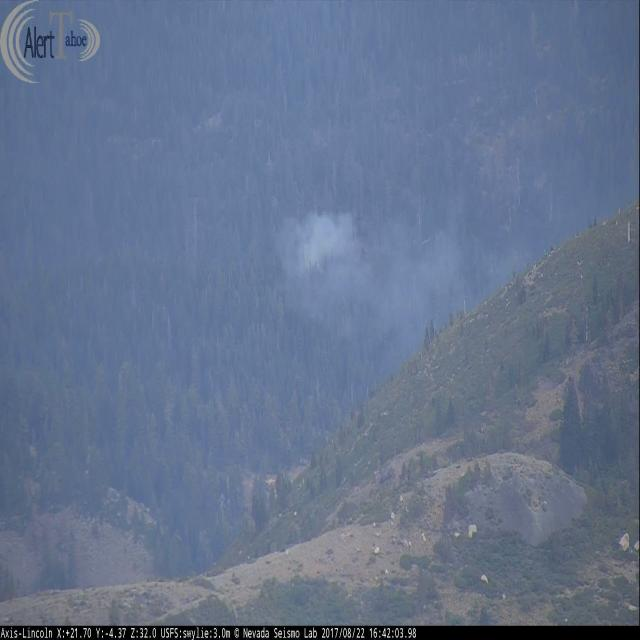smoke: (278, 205, 412, 356)
